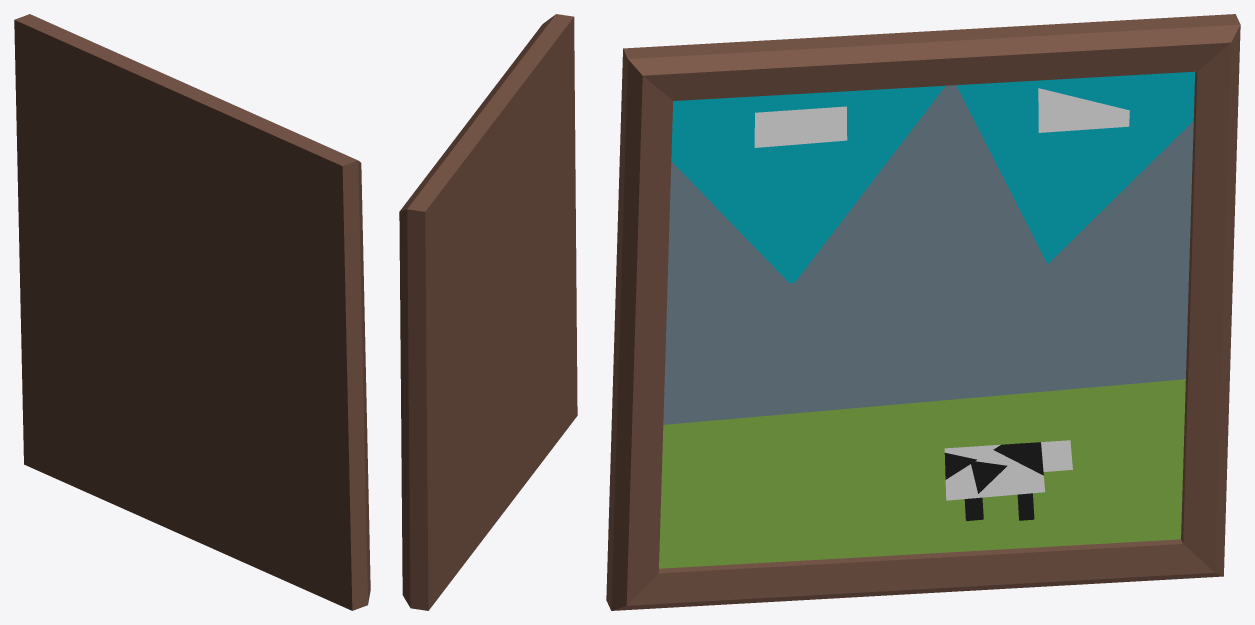
Rendered from Painting by Jonathan Granskog - fWqUmeGBc-L.glb.
3 views of the same model, side by side, from view 1: azimuth 30°, elevation 25°; view 2: azimuth 150°, elevation 25°; view 3: azimuth 270°, elevation 25° (orthographic). The views are drawn at different scales.
Parts seen in each view (by area): view 1: group1788839726; view 2: group1788839726; view 3: group1788839726.
Part boxes in pixels (x1,y1,x2,y2): group1788839726: [14, 14, 370, 610]; group1788839726: [399, 14, 577, 610]; group1788839726: [606, 14, 1240, 610].
Size of the model in its own units: 0.144 by 0.5549 by 0.5634.
